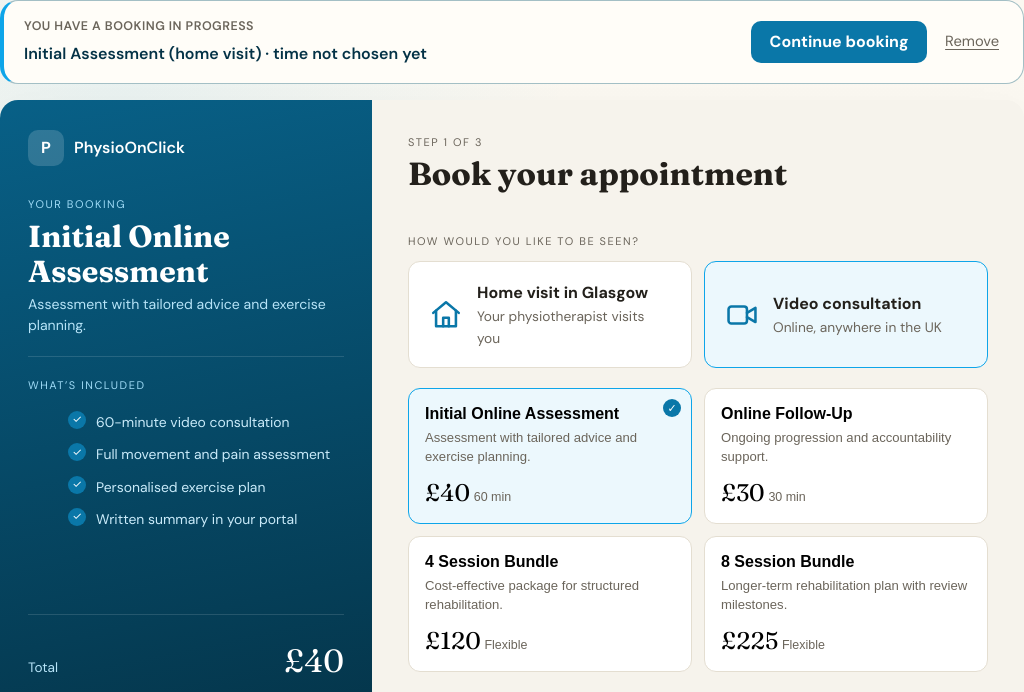
Scenario: booking address book › blocks an uncovered saved address with the out-of-area message
Click the radio button labelled "Home visit in Glasgow Your physiotherapist visits you": [550, 314] box left=408, top=261, right=692, bottom=368
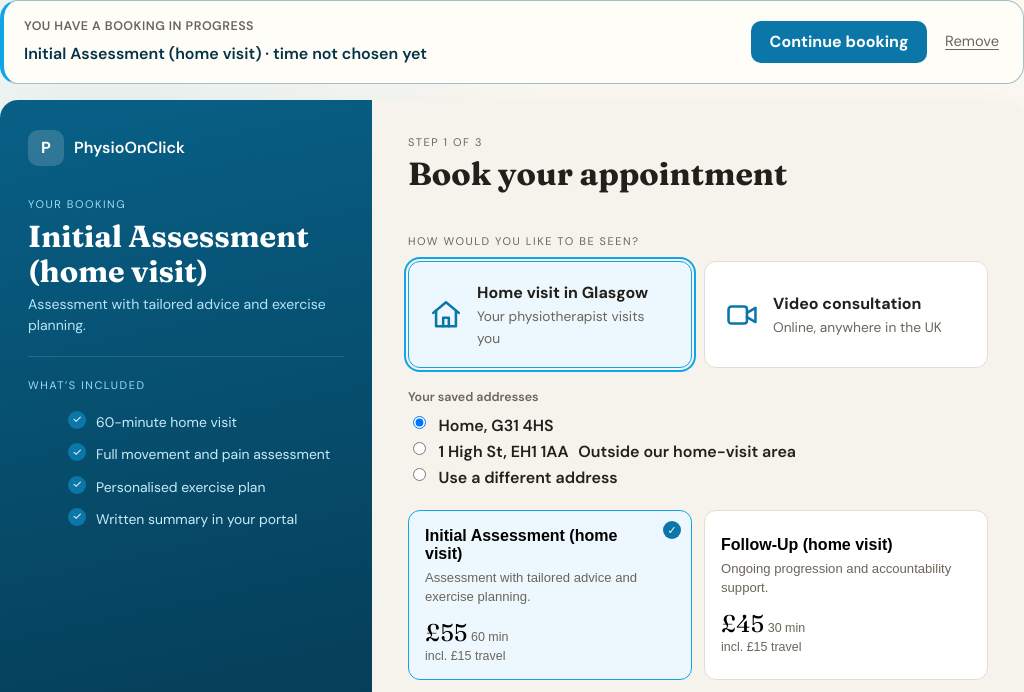
Click the radio button labelled "1 High St, EH1 1AA Outside our home-visit area": [420, 448] box left=413, top=442, right=426, bottom=455
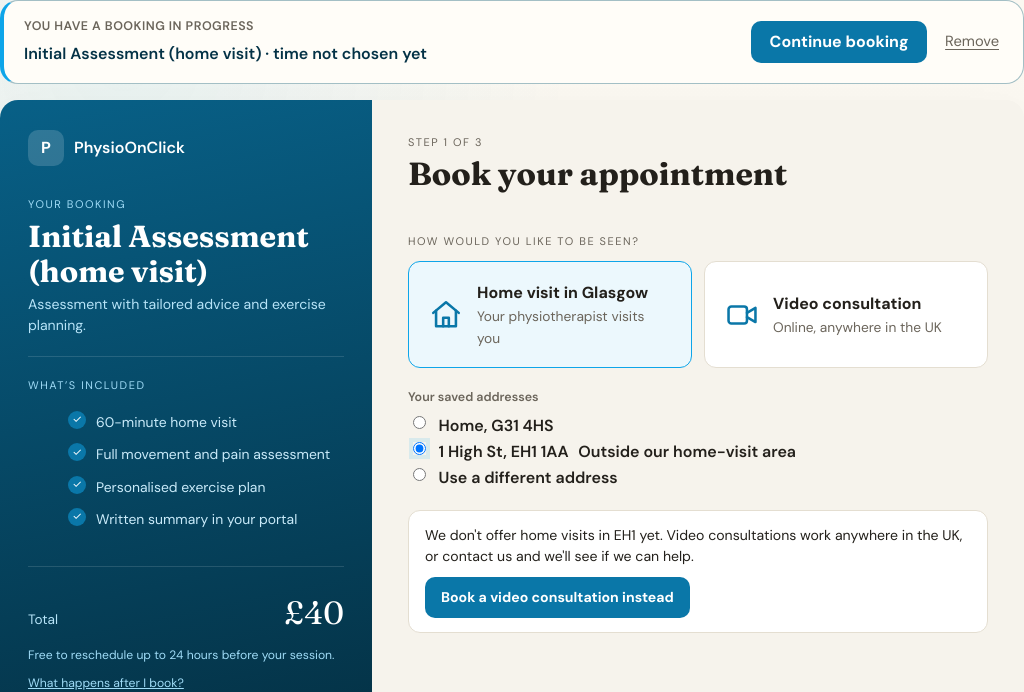
Expected: the button "Continue to times" is not shown
Expected: the message shows "EH1", left=425, top=526, right=962, bottom=565
Expected: the button "Book a video consultation instead" is shown, left=425, top=577, right=690, bottom=618
